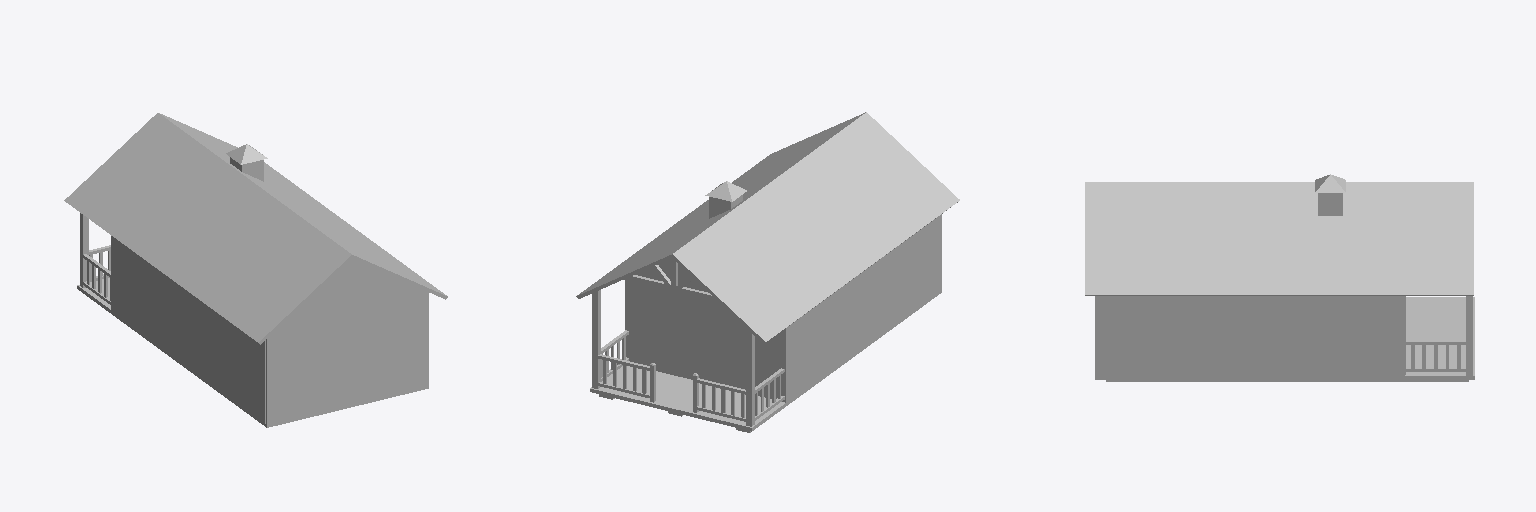
The model's file is house.obj.
The picture shows the model from 3 angles: view 1: azimuth 30°, elevation 25°; view 2: azimuth 150°, elevation 25°; view 3: azimuth 270°, elevation 25°; orthographic projection.
Visible parts, largest first — view 1: Snow_covered_CottageOBJ, Snow_covered_CottageOBJ.001; view 2: Snow_covered_CottageOBJ, Snow_covered_CottageOBJ.001; view 3: Snow_covered_CottageOBJ.
Boxes of the visible parts, box(x1,y1,x2,y2) form: Snow_covered_CottageOBJ: box(64, 113, 447, 427); Snow_covered_CottageOBJ.001: box(111, 236, 265, 423); Snow_covered_CottageOBJ: box(576, 112, 959, 432); Snow_covered_CottageOBJ.001: box(627, 216, 939, 403); Snow_covered_CottageOBJ: box(1085, 174, 1474, 381).
Bounding box in the file's own units: 65.76 × 59.31 × 117.